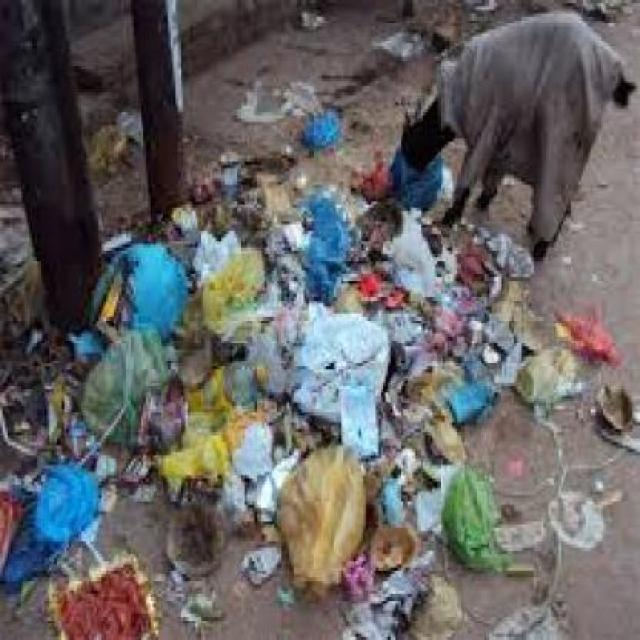garbage: (20, 222, 432, 608), (415, 238, 514, 420), (300, 106, 349, 149)
